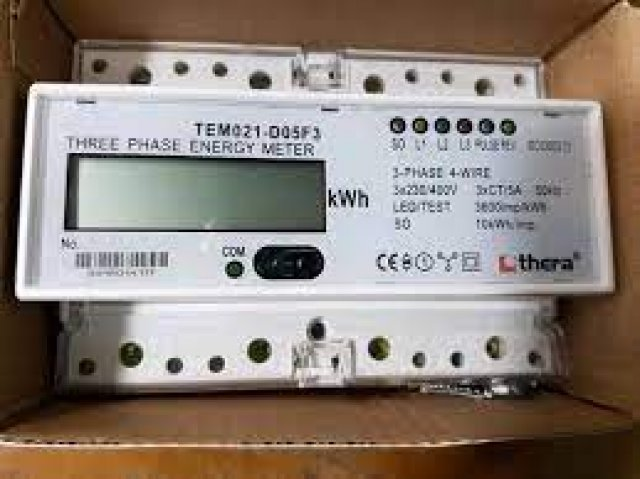box: (68, 152, 326, 235)
